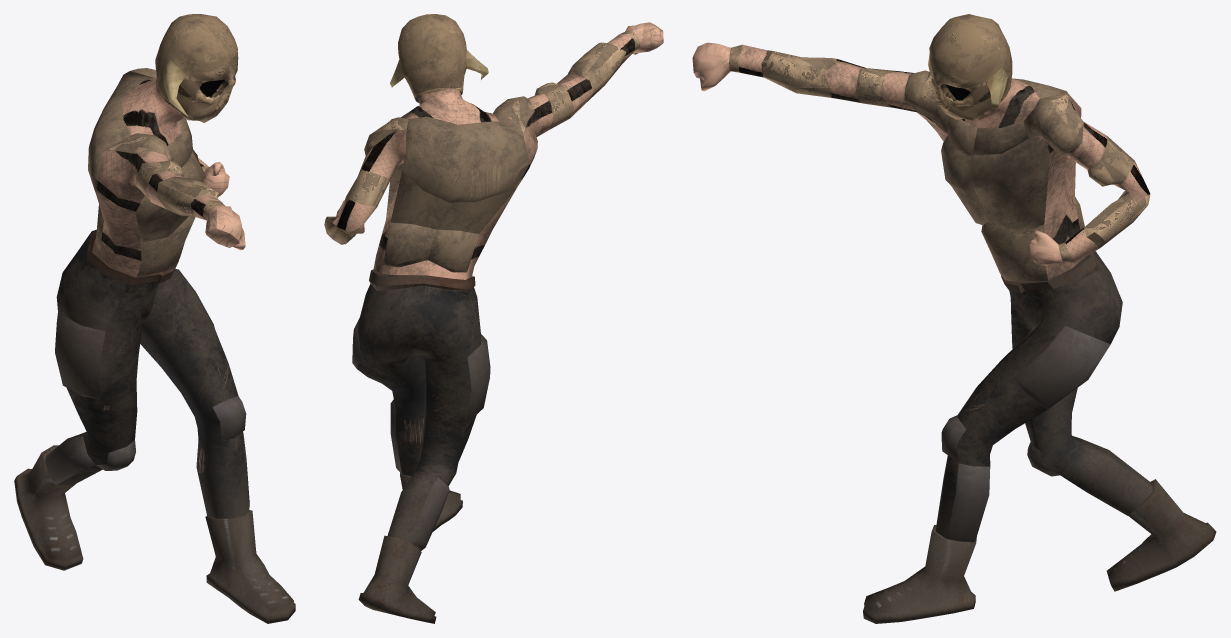
Rendered from Anim_ataque_d1_npc1.0021.obj.
3 views of the same model, side by side, from view 1: azimuth 30°, elevation 25°; view 2: azimuth 150°, elevation 25°; view 3: azimuth 270°, elevation 25° (orthographic). The views are drawn at different scales.
Parts seen in each view (by area): view 1: NPC2; view 2: NPC2; view 3: NPC2.
Boxes of the visible parts, box(x1,y1,x2,y2) form: NPC2: box(14, 14, 295, 623); NPC2: box(324, 14, 663, 623); NPC2: box(692, 14, 1216, 623).
Size of the model in its own units: 2.95 by 8.86 by 7.05.
